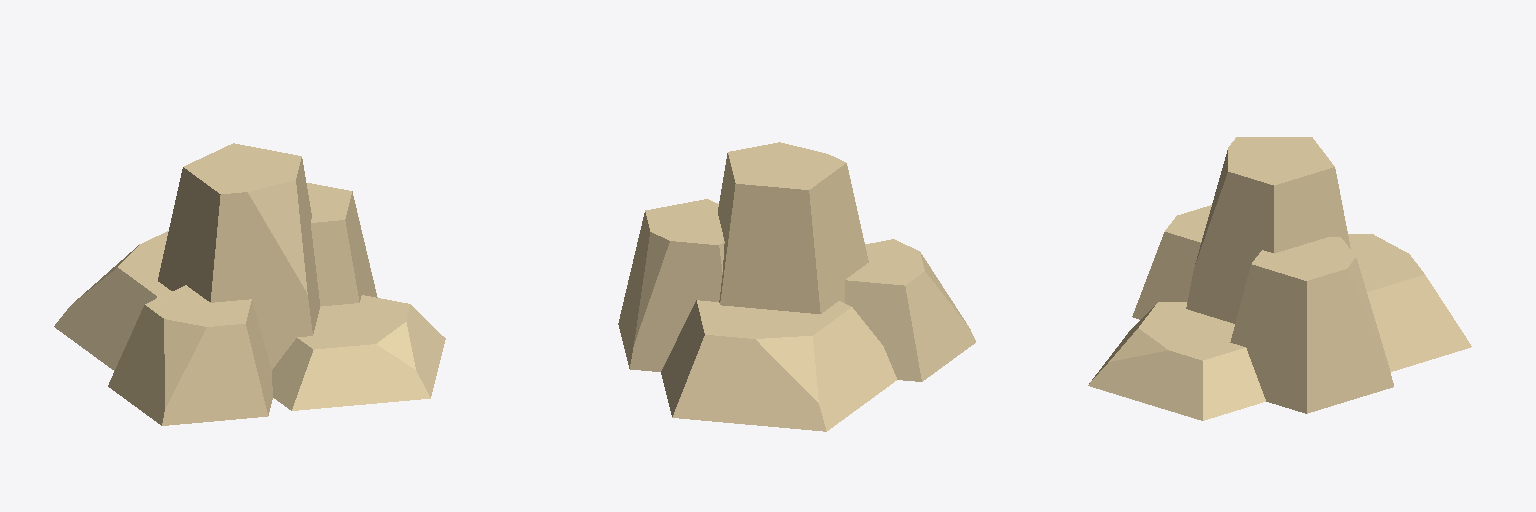
File: rockB2.obj
3 views of the same model, side by side, from view 1: azimuth 30°, elevation 25°; view 2: azimuth 150°, elevation 25°; view 3: azimuth 270°, elevation 25° (orthographic).
Parts seen in each view (by area): view 1: rockB; view 2: rockB; view 3: rockB.
Boxes of the visible parts, x1,y1,x2,y2 form: rockB: [54, 143, 445, 425]; rockB: [618, 142, 975, 431]; rockB: [1088, 137, 1471, 420].
Bounding box in the file's own units: 2.9 × 1.67 × 3.2.